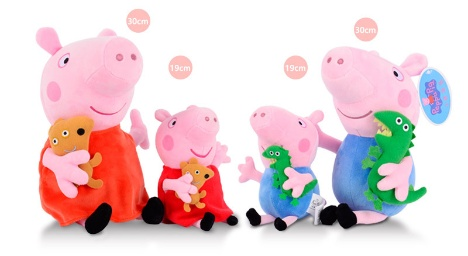Peppa: (153, 104, 240, 231)
